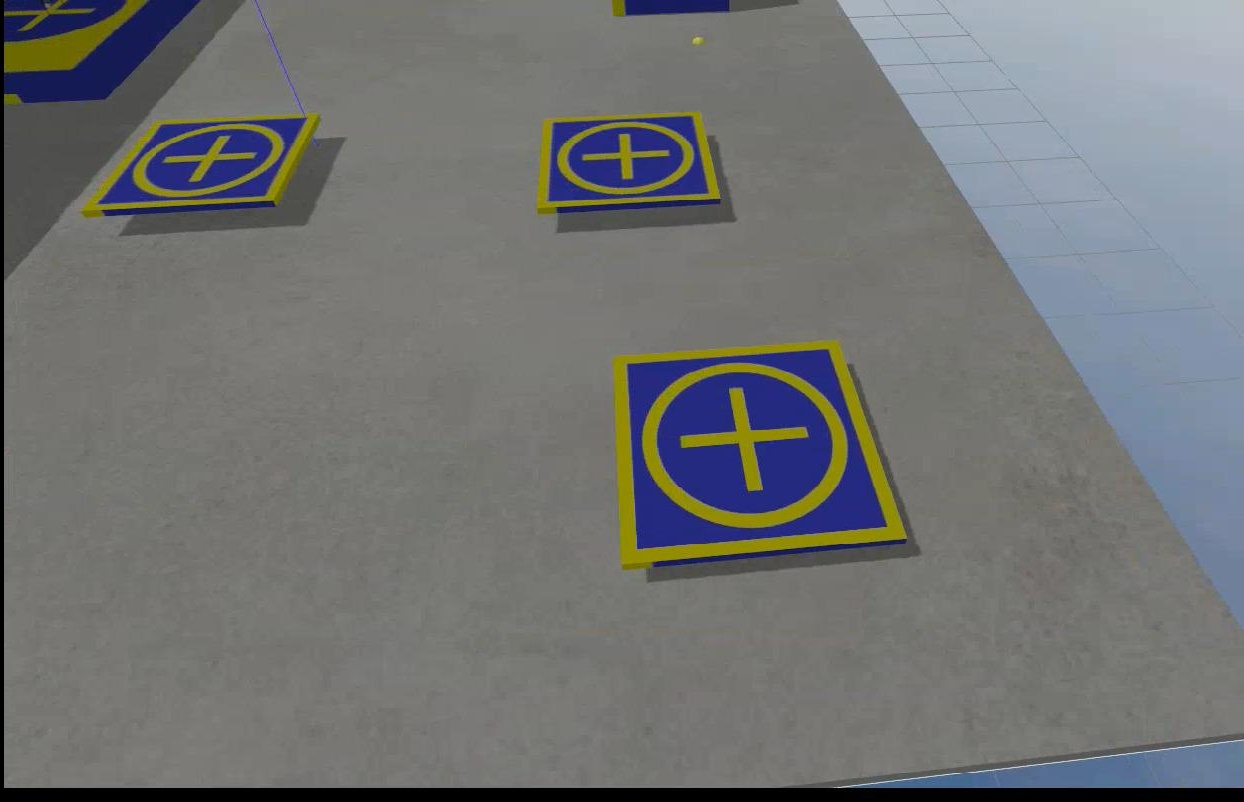large_base: (0, 1, 192, 107)
small_base: (604, 335, 909, 582), (78, 111, 320, 223), (531, 111, 716, 220)
